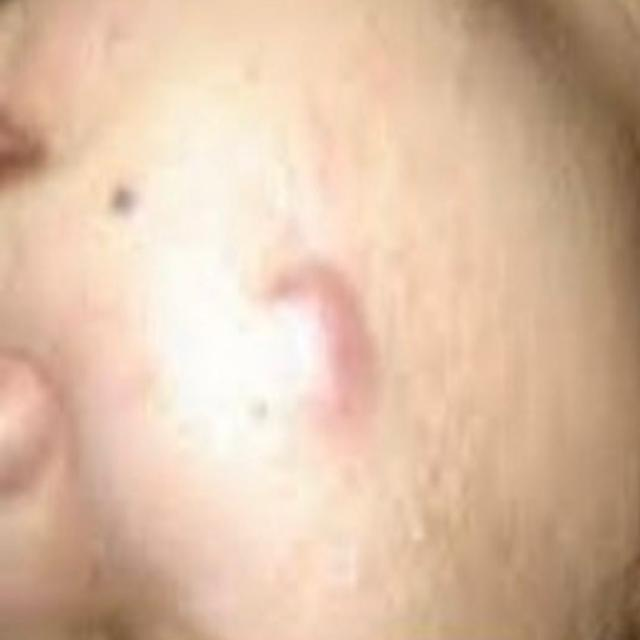nodule: (249, 239, 389, 455)
